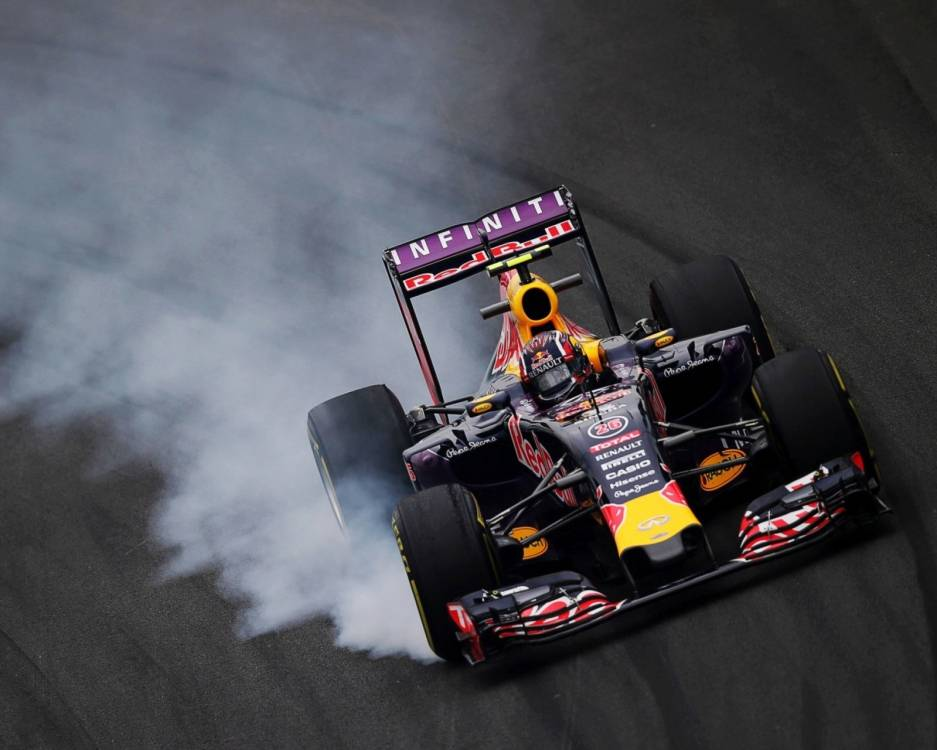f1_car: (301, 161, 917, 681)
helmet: (514, 326, 603, 410)
